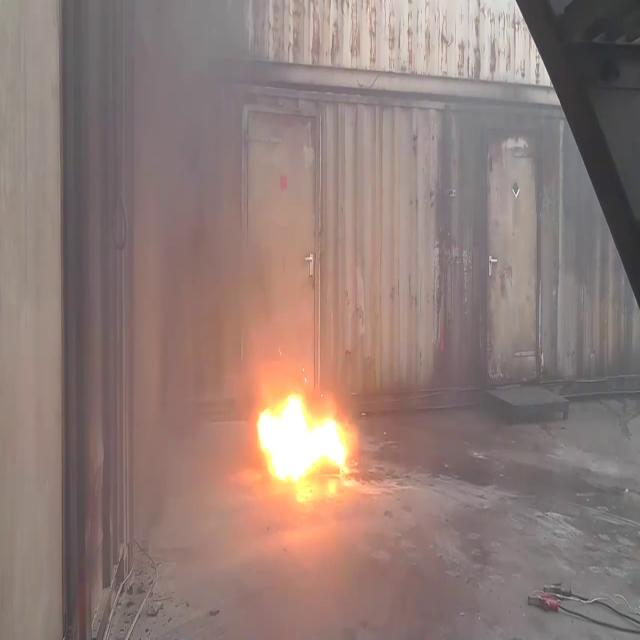Fire: (248, 373, 360, 500)
